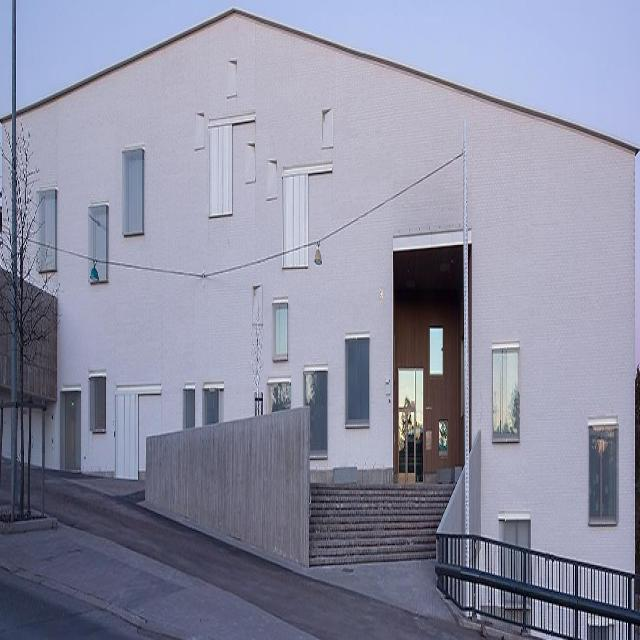Railing: (437, 532, 640, 639)
door: (397, 405, 416, 483)
wall: (0, 3, 637, 639)
windows: (398, 373, 423, 483), (590, 424, 618, 521), (493, 346, 518, 439), (344, 339, 368, 425), (122, 151, 144, 235), (306, 368, 327, 453), (37, 191, 57, 274), (88, 206, 109, 284), (272, 300, 288, 360), (90, 376, 106, 432), (267, 380, 290, 411), (430, 326, 442, 378), (183, 386, 195, 430), (204, 391, 218, 425), (439, 422, 447, 457)
